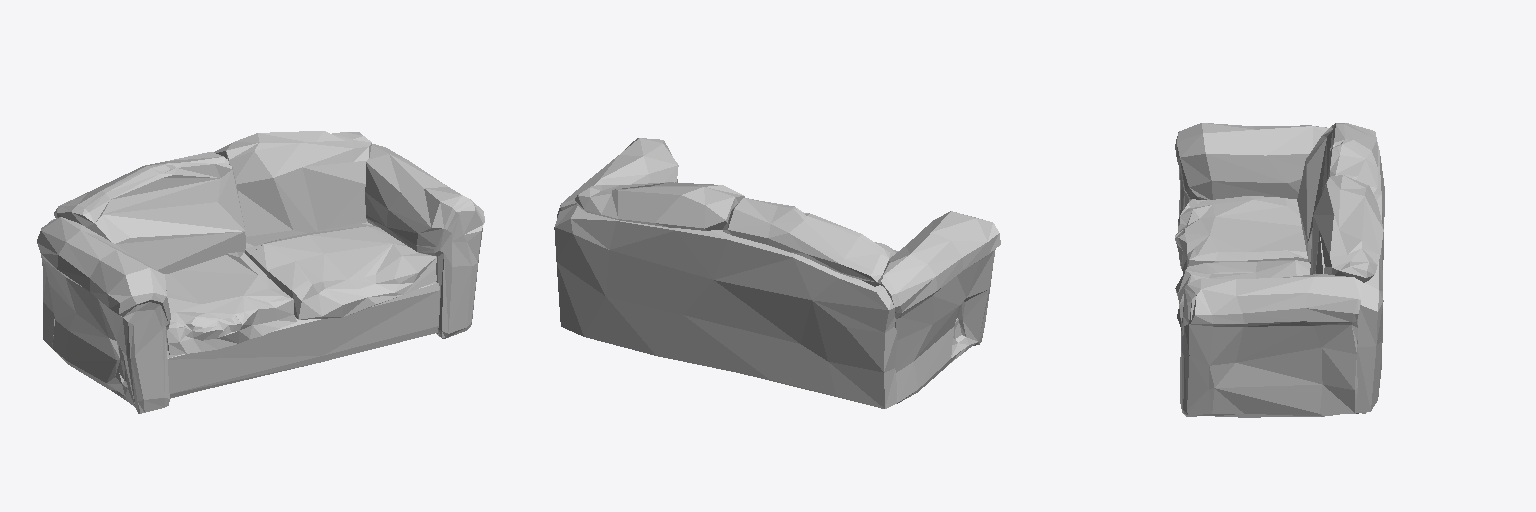
Rendered from C1Done.obj.
3 renders of one model, left to right at view 1: azimuth 30°, elevation 25°; view 2: azimuth 150°, elevation 25°; view 3: azimuth 270°, elevation 25°, orthographic.
Size of the model in its own units: 2.6 by 1.13 by 1.28.